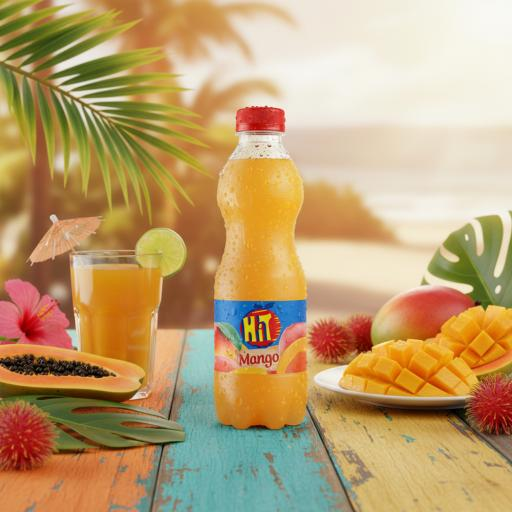JugoHM: (196, 98, 318, 444)
